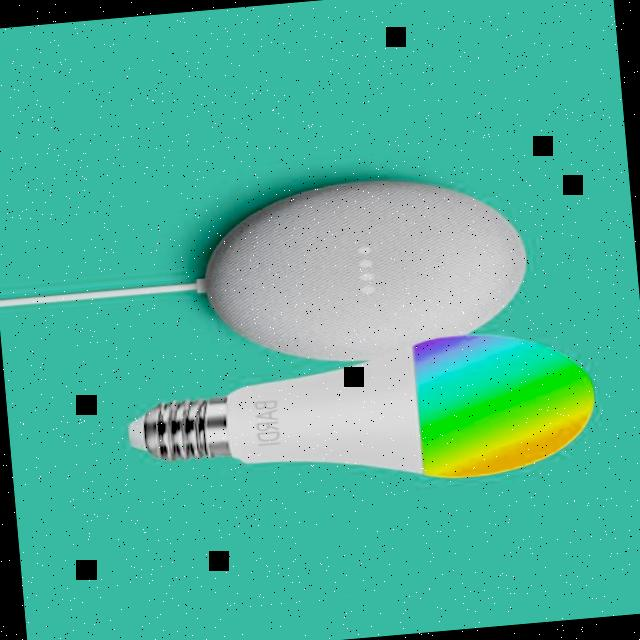light_bulb: (89, 303, 604, 519)
